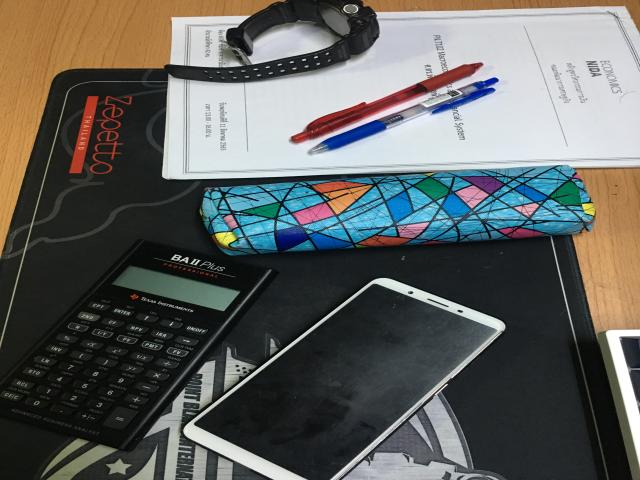Mobile phone: (183, 278, 505, 480)
Pen: (292, 63, 483, 142), (308, 78, 498, 154)
Watch: (167, 0, 380, 82)
paper: (163, 7, 638, 179)
